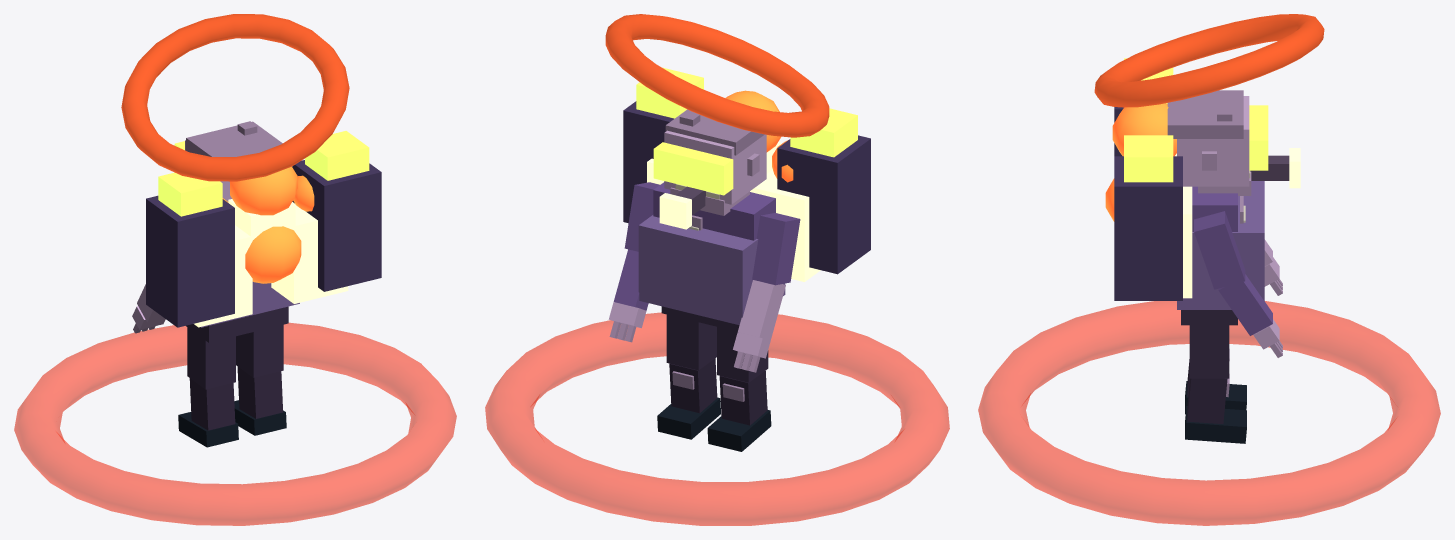
The model's file is cloudburst.glb.
3 views of the same model, side by side, from view 1: azimuth 30°, elevation 25°; view 2: azimuth 150°, elevation 25°; view 3: azimuth 270°, elevation 25° (orthographic). The views are drawn at different scales.
Parts seen in each view (by area): view 1: MinibossGroundAura, Merged7, MinibossHalo, Merged4, Merged6, _MeshInstance3D_987, Merged2, _MeshInstance3D_986, _MeshInstance3D_954, _MeshInstance3D_968, Merged3, _MeshInstance3D_985; view 2: MinibossGroundAura, Merged7, MinibossHalo, Merged2, Merged6, Merged4, Merged3, _MeshInstance3D_946, _MeshInstance3D_968, Merged5, _MeshInstance3D_954, _MeshInstance3D_960 (+2 smaller); view 3: MinibossGroundAura, Merged7, MinibossHalo, Merged2, Merged6, _MeshInstance3D_960, Merged5, _MeshInstance3D_968, _MeshInstance3D_986, Merged4, Merged3.
Boxes of the visible parts, x1,y1,x2,y2 form: MinibossGroundAura: (14,322,456,525); Merged7: (146,131,381,342); MinibossHalo: (121,14,349,181); Merged4: (178,378,238,447); Merged6: (234,366,286,435); _MeshInstance3D_987: (245,226,301,283); Merged2: (174,121,282,201); _MeshInstance3D_986: (230,166,297,215); _MeshInstance3D_954: (187,327,235,389); _MeshInstance3D_968: (236,324,283,377); Merged3: (132,284,165,333); _MeshInstance3D_985: (293,175,314,211); MinibossGroundAura: (485,312,949,525); Merged7: (623,67,870,331); MinibossHalo: (605,14,829,137); Merged2: (653,109,766,229); Merged6: (657,358,720,439); Merged4: (707,371,771,451); Merged3: (733,280,785,372); _MeshInstance3D_946: (752,213,800,285); _MeshInstance3D_968: (666,314,716,370); Merged5: (608,249,648,342); _MeshInstance3D_954: (717,327,768,382); _MeshInstance3D_960: (624,182,659,251); MinibossGroundAura: (978,301,1440,525); Merged7: (1114,58,1264,325); MinibossHalo: (1094,14,1324,107); Merged2: (1167,90,1300,188); Merged6: (1185,374,1246,443); _MeshInstance3D_960: (1194,211,1245,289); Merged5: (1218,274,1282,357); _MeshInstance3D_968: (1189,325,1229,378); _MeshInstance3D_986: (1112,103,1176,156); Merged4: (1185,349,1246,414); Merged3: (1264,239,1282,295).
Size of the model in its own units: 7.3 by 6.93 by 6.99.
